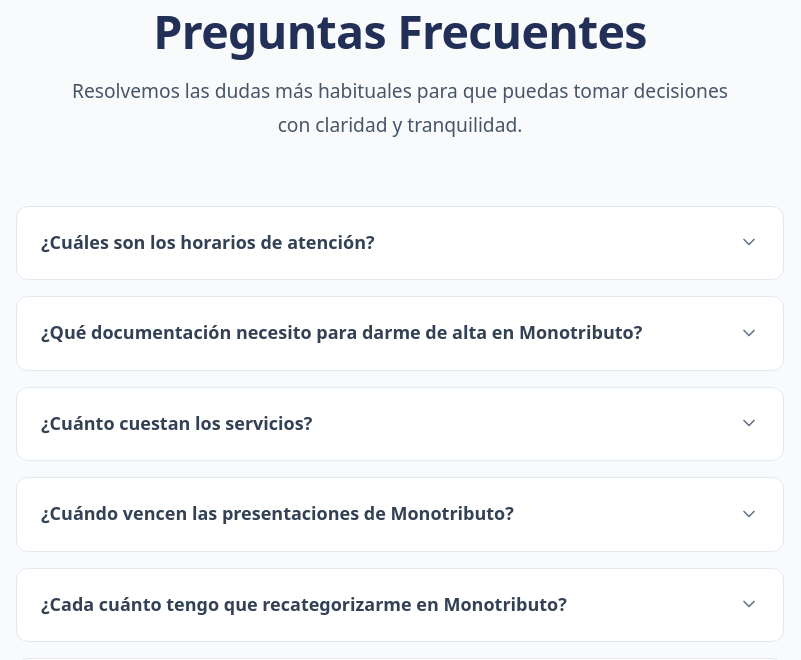
Componente FAQ › muestra la respuesta cuando el ítem está expandido
The width and height of the screenshot is (801, 660).
Click the button "¿Cuáles son los horarios de atención?" at (208, 242), box [17,207,783,278]
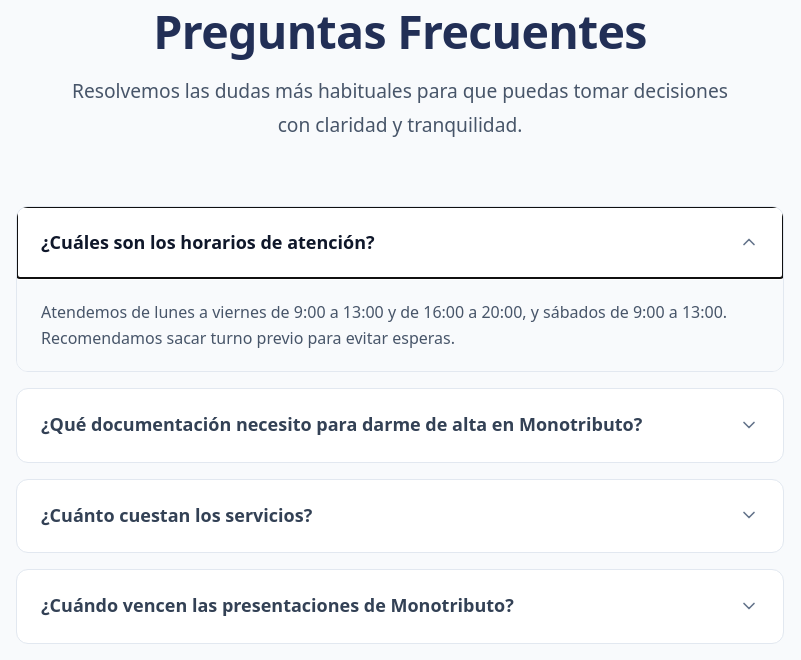
Now the text "Atendemos de lunes a viernes de 9:00 a 13:00 y de 16:00 a 20:00, y sábados de 9:00 a 13:00. Recomendamos sacar turno pre" is shown, box [41,301,727,349]
